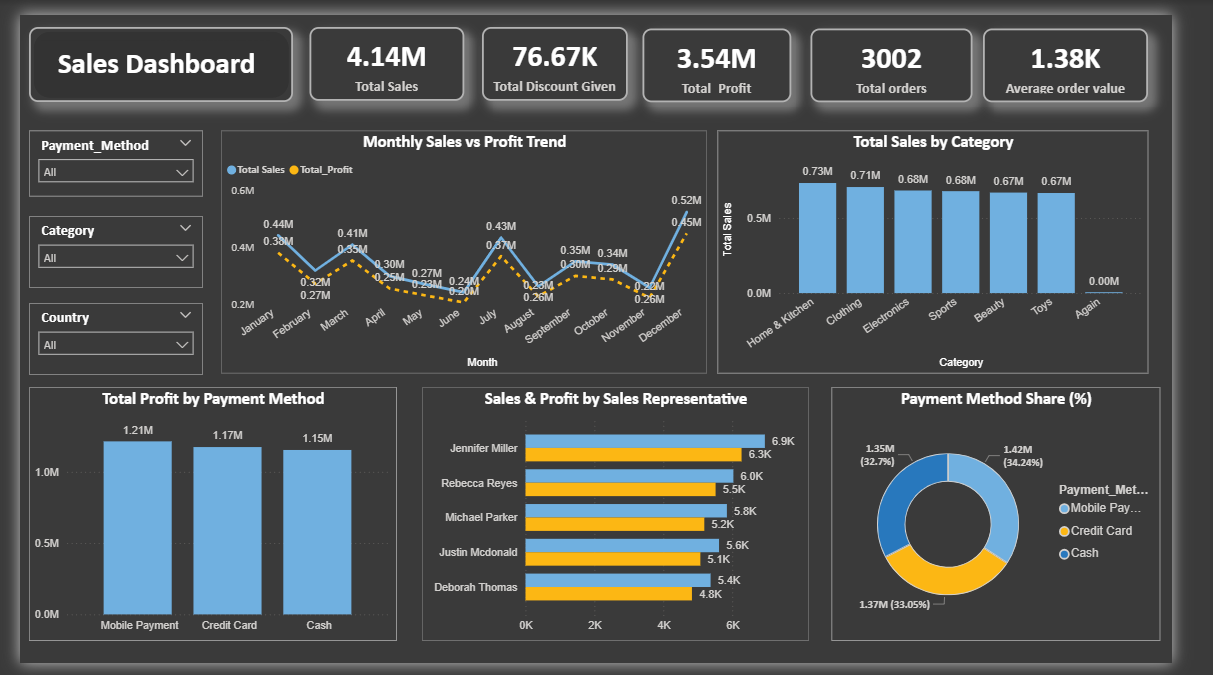

Layout of this report page (visuals, bound fields, positions):
{"tool":"powerbi","page":{"name":"Executive Overview","canvas":[1280,720],"ordinal":0},"visuals":[{"type":"card","fields":{"Values":["sales_Data.total_sales"]},"box":[321.7,13.3,171.7,81.7],"z":0},{"type":"card","fields":{"Values":["sales_Data.Total_Profit"]},"box":[691.7,15,165,81.7],"z":1000},{"type":"card","fields":{"Values":["sales_Data.Total orders"]},"box":[878.3,15,180,81.7],"z":2000},{"type":"card","fields":{"Values":["sales_Data.Total Discount Given"]},"box":[513.3,13.3,161.7,81.7],"z":3000},{"type":"card","fields":{"Values":["sales_Data.Average order value"]},"box":[1070,15,183.3,81.7],"z":4000},{"type":"slicer","fields":{"Values":["sales_Data.Country"]},"box":[10,320,193.3,80],"z":5000},{"type":"slicer","fields":{"Values":["sales_Data.Category"]},"box":[10,223.3,193.3,80],"z":6000},{"type":"slicer","fields":{"Values":["sales_Data.Payment_Method"]},"box":[10,128.3,193.3,73.3],"z":7000},{"type":"lineChart","title":"Monthly Sales vs Profit Trend","fields":{"Y":["sales_Data.total_sales","sales_Data.Total_Profit"],"Category":["sales_Data.Date.Variation.Date Hierarchy.Year","sales_Data.Date.Variation.Date Hierarchy.Quarter","sales_Data.Date.Variation.Date Hierarchy.Month","sales_Data.Date.Variation.Date Hierarchy.Day"]},"box":[223.3,128.3,540,270],"z":8000},{"type":"columnChart","fields":{"Category":["sales_Data.Category"],"Y":["sales_Data.total_sales"]},"box":[775,128.3,478.3,270],"z":9000},{"type":"clusteredBarChart","title":"Sales & Profit by Sales Representative","fields":{"Category":["sales_Data.Sales_Rep"],"Y":["sales_Data.total_sales","sales_Data.Total_Profit"]},"box":[446.7,413.3,430,281.7],"z":10000},{"type":"donutChart","title":"Payment Method Share (%)","fields":{"Category":["sales_Data.Payment_Method"],"Y":["sales_Data.total_sales"]},"box":[901.7,413.3,365,281.7],"z":11000},{"type":"columnChart","title":"Total Profit by Payment Method","fields":{"Category":["sales_Data.Payment_Method"],"Y":["sales_Data.Total_Profit"]},"box":[10,413.3,408.3,281.7],"z":12000},{"type":"textbox","box":[23.3,15,280,81.7],"z":13000},{"type":"shape","box":[10,13.3,293.3,83.3],"z":14000},{"type":"textbox","box":[23.3,28.3,256.7,51.7],"z":15000}]}

Visuals, with their boxes in screenshot pixels (x1, y1, x2, y2), scaled from the page's 1280x720 canvas onto the 1213x675 screenshot:
card - sales_Data.total_sales: (left=305, top=12, right=468, bottom=89)
card - sales_Data.Total_Profit: (left=655, top=14, right=812, bottom=91)
card - sales_Data.Total orders: (left=832, top=14, right=1003, bottom=91)
card - sales_Data.Total Discount Given: (left=486, top=12, right=640, bottom=89)
card - sales_Data.Average order value: (left=1014, top=14, right=1188, bottom=91)
slicer - sales_Data.Country: (left=9, top=300, right=193, bottom=375)
slicer - sales_Data.Category: (left=9, top=209, right=193, bottom=284)
slicer - sales_Data.Payment_Method: (left=9, top=120, right=193, bottom=189)
"Monthly Sales vs Profit Trend" lineChart: (left=212, top=120, right=723, bottom=373)
columnChart - sales_Data.Category x sales_Data.total_sales: (left=734, top=120, right=1188, bottom=373)
"Sales & Profit by Sales Representative" clusteredBarChart: (left=423, top=387, right=831, bottom=652)
"Payment Method Share (%)" donutChart: (left=855, top=387, right=1200, bottom=652)
"Total Profit by Payment Method" columnChart: (left=9, top=387, right=396, bottom=652)
textbox: (left=22, top=14, right=287, bottom=91)
shape: (left=9, top=12, right=287, bottom=91)
textbox: (left=22, top=27, right=265, bottom=75)
